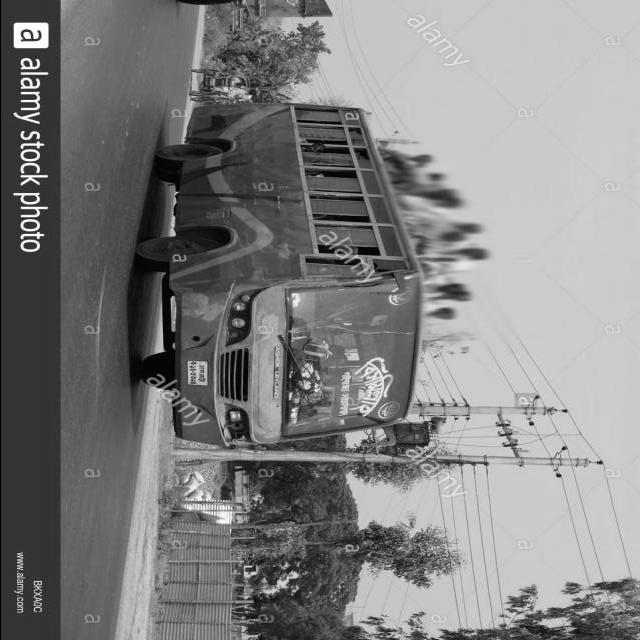bus: (134, 100, 429, 447)
